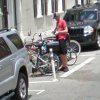Bicycle: (20, 19, 83, 78)
